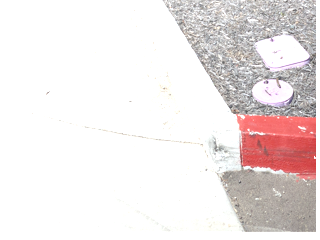Edge: (137, 1, 315, 178)
